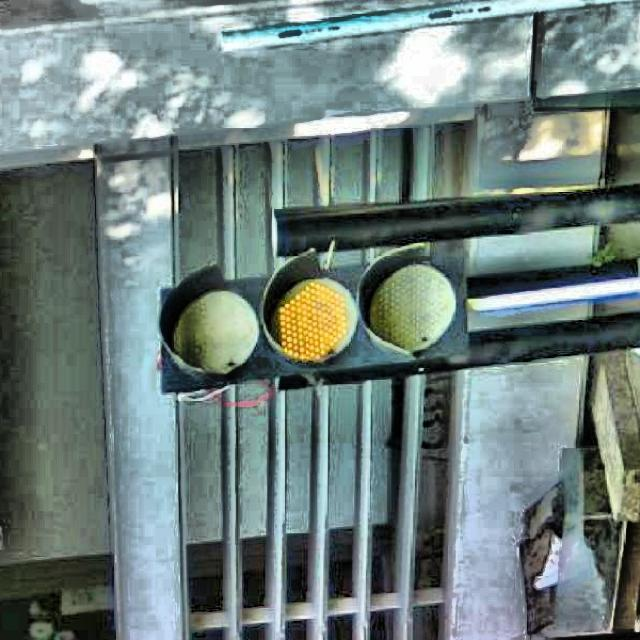yellow: (138, 237, 476, 371)
